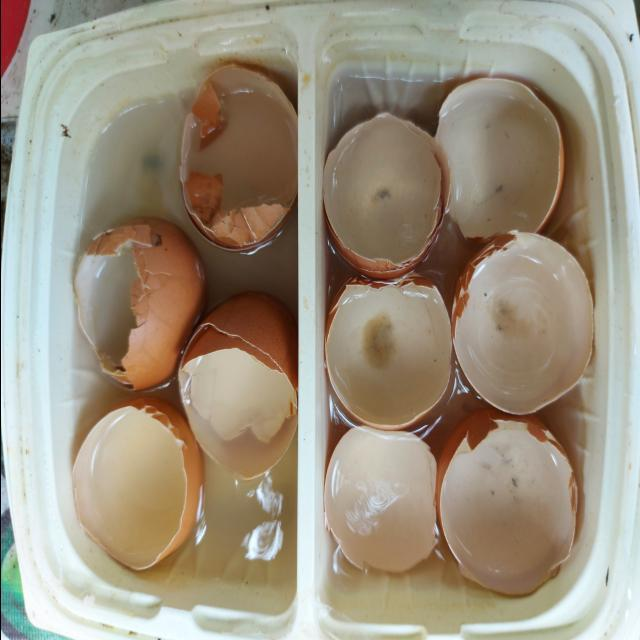egg shell: (438, 412, 578, 598), (454, 232, 594, 414), (72, 216, 207, 388), (70, 397, 202, 572), (177, 292, 297, 479), (180, 68, 296, 256), (431, 77, 563, 238), (320, 112, 450, 274), (324, 274, 453, 428), (321, 428, 439, 574)
